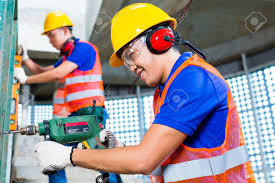helmet: (109, 3, 176, 50), (41, 13, 74, 31)
vest: (154, 76, 258, 183), (54, 47, 105, 109)
